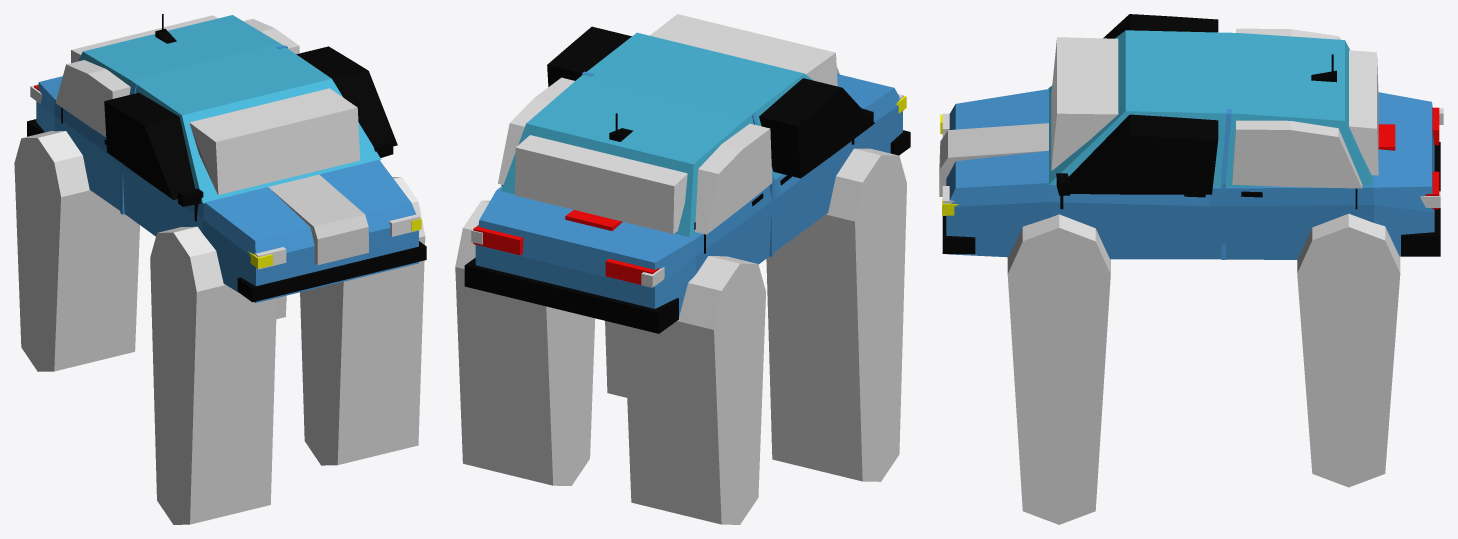
File: car.fbx
3 views of the same model, side by side, from view 1: azimuth 30°, elevation 25°; view 2: azimuth 150°, elevation 25°; view 3: azimuth 270°, elevation 25° (orthographic). The views are drawn at different scales.
Visible parts, largest first — view 1: Cylinder.001, Cylinder, Cylinder.003, Cube, Cube.001, Cube.002, Cube.004, Cube.013, Cube.003, Cube.007; view 2: Cylinder.001, Cylinder, Cube, Cylinder.002, Cube.001, Cube.002, Cube.004, Cube.003, Cube.008, Cylinder.003, Cube.010, Cube.009 (+1 smaller); view 3: Cube, Cylinder.003, Cylinder.002, Cube.001, Cube.004, Cube.002, Cube.003, Cube.013, Cube.008, Cube.007.
Boxes of the visible parts, <box> form: Cylinder.001: <box>150,226,276,524</box>; Cylinder: <box>14,131,139,371</box>; Cylinder.003: <box>300,177,425,465</box>; Cube: <box>36,76,418,302</box>; Cube.001: <box>78,15,381,203</box>; Cube.002: <box>71,15,360,194</box>; Cube.004: <box>104,46,397,199</box>; Cube.013: <box>268,174,368,264</box>; Cube.003: <box>55,19,299,137</box>; Cube.007: <box>237,241,426,302</box>; Cylinder.001: <box>766,148,906,481</box>; Cylinder: <box>624,256,765,524</box>; Cube: <box>475,74,902,316</box>; Cylinder.002: <box>455,200,595,485</box>; Cube.001: <box>501,32,813,236</box>; Cube.002: <box>515,14,837,233</box>; Cube.004: <box>547,26,874,178</box>; Cube.003: <box>498,77,772,234</box>; Cube.008: <box>464,257,678,333</box>; Cylinder.003: <box>605,321,627,397</box>; Cube.010: <box>473,225,523,255</box>; Cube.009: <box>605,259,658,284</box>; Cube: <box>946,89,1434,259</box>; Cylinder.003: <box>1007,214,1110,524</box>; Cylinder.002: <box>1297,213,1400,487</box>; Cube.001: <box>1048,30,1372,187</box>; Cube.004: <box>1065,14,1218,194</box>; Cube.002: <box>1051,37,1378,175</box>; Cube.003: <box>1232,28,1362,188</box>; Cube.013: <box>939,123,1048,196</box>; Cube.008: <box>1401,142,1440,256</box>; Cube.007: <box>942,216,975,253</box>.
Bounding box in the file's own units: 264 × 425 × 448.
